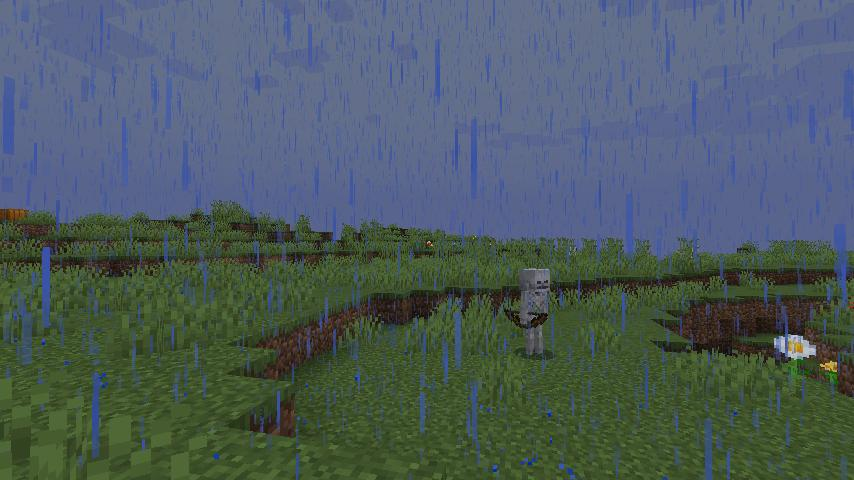skeleton: (506, 267, 552, 358)
